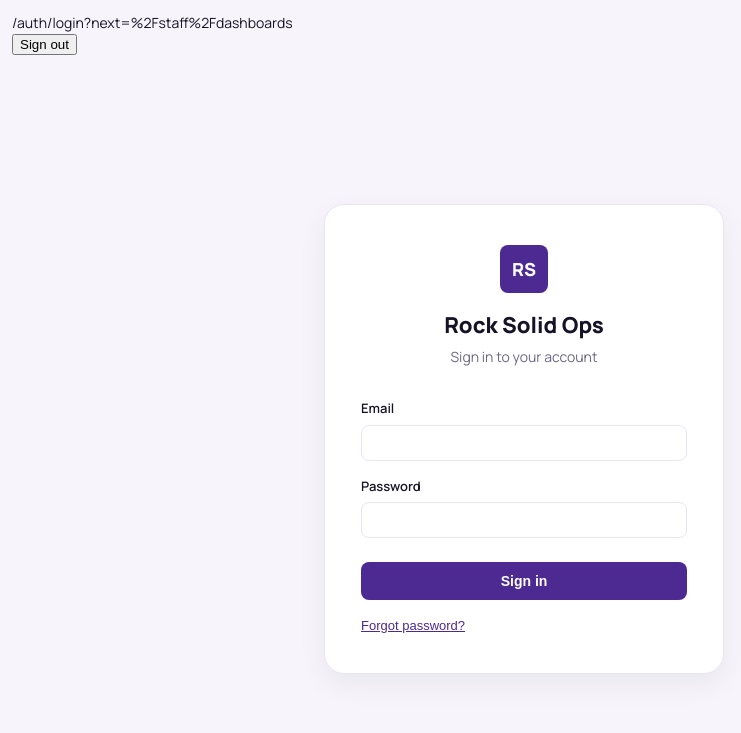
Test: first-login race › a failed profile fetch shows an explicit message instead of a silent login form
This screenshot has width=741, height=733.
Type "admin@rso.test" into the field labelled "Email".
click(524, 442); type("admin@rso.test")  # box [361,424,687,460]
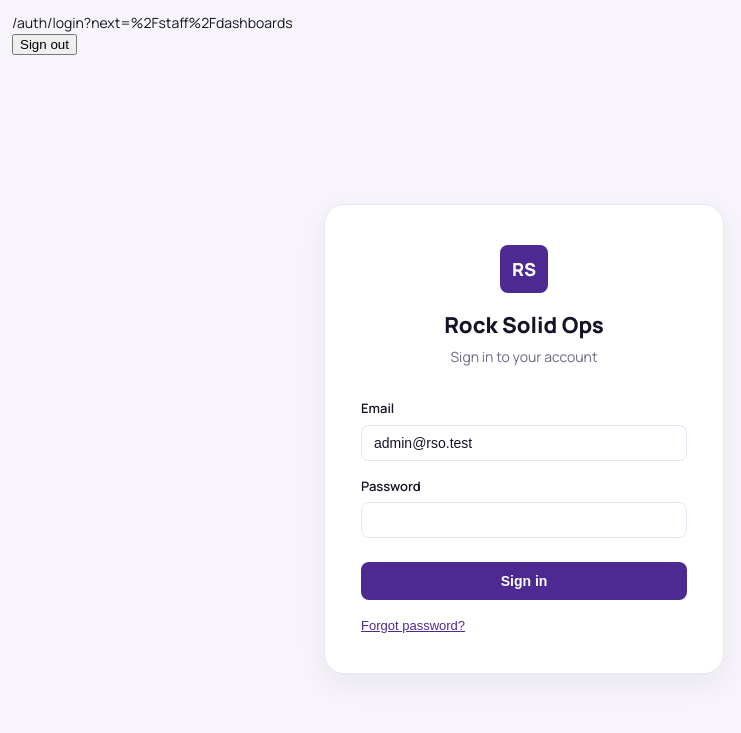
Type "admin-pass" into the password field labelled "Password".
click(524, 520); type("admin-pass")  # box [361,502,687,538]
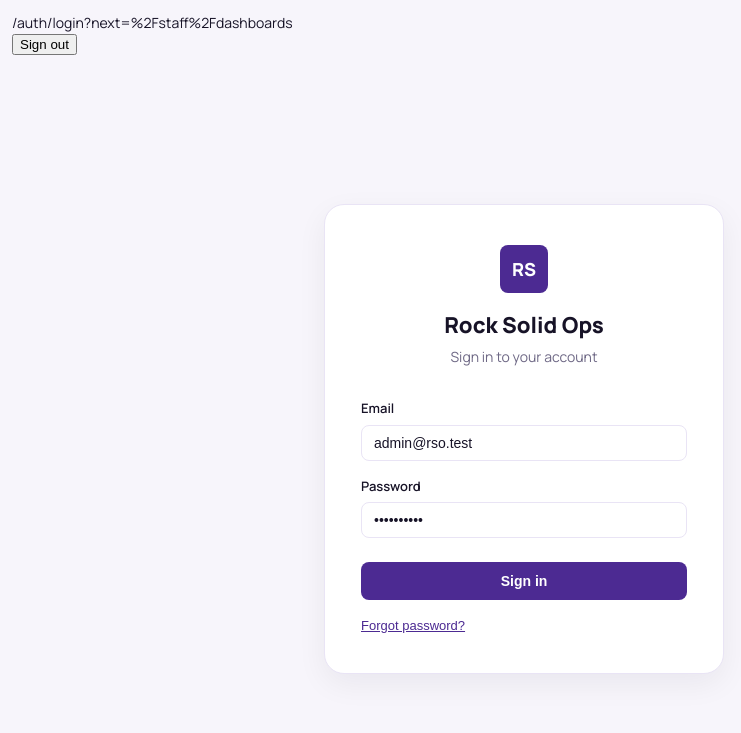
Click the button "Sign in".
click(524, 581)  # box [361,562,687,600]
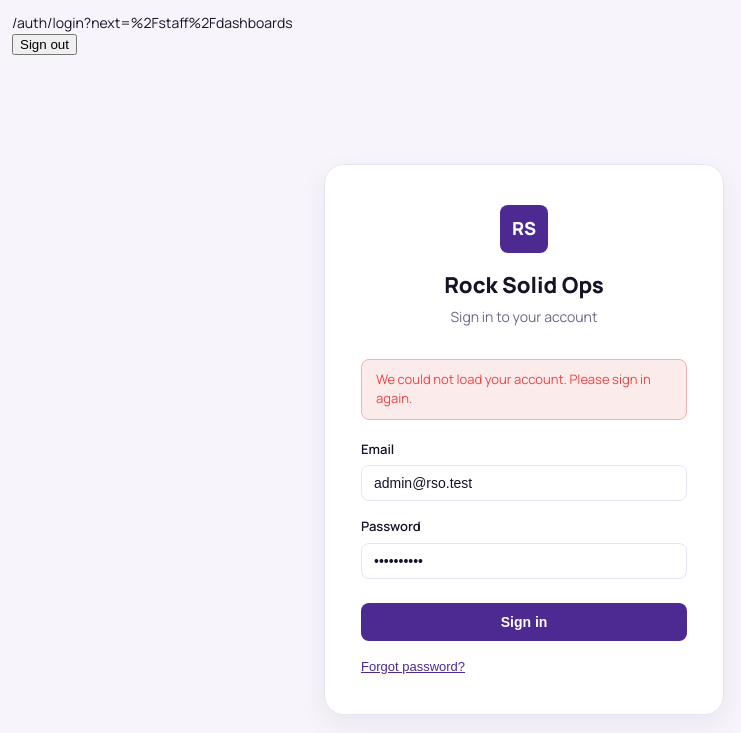
Now the text "We could not load your account. Please sign in again." is shown, box [361,358,687,420]
